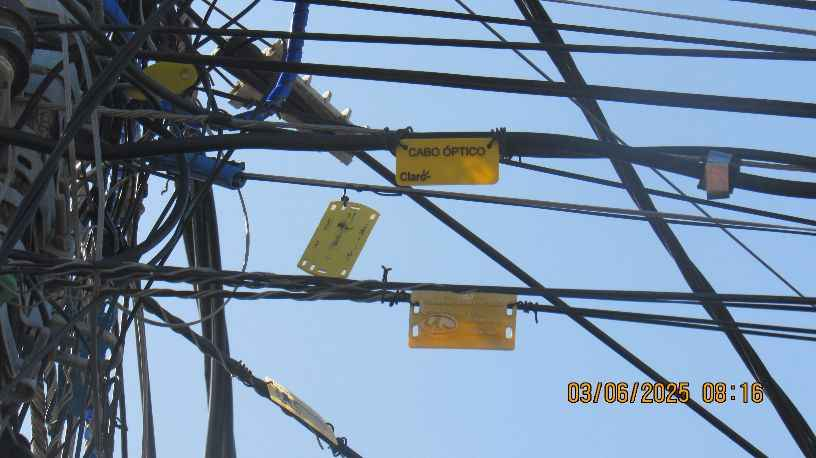drop: (114, 34, 275, 123)
fibra_optica: (131, 301, 355, 454), (368, 259, 603, 371), (361, 103, 613, 196), (218, 168, 383, 281)
